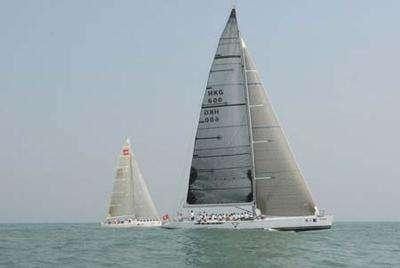fanchuan: (167, 4, 334, 233), (99, 134, 170, 230)
